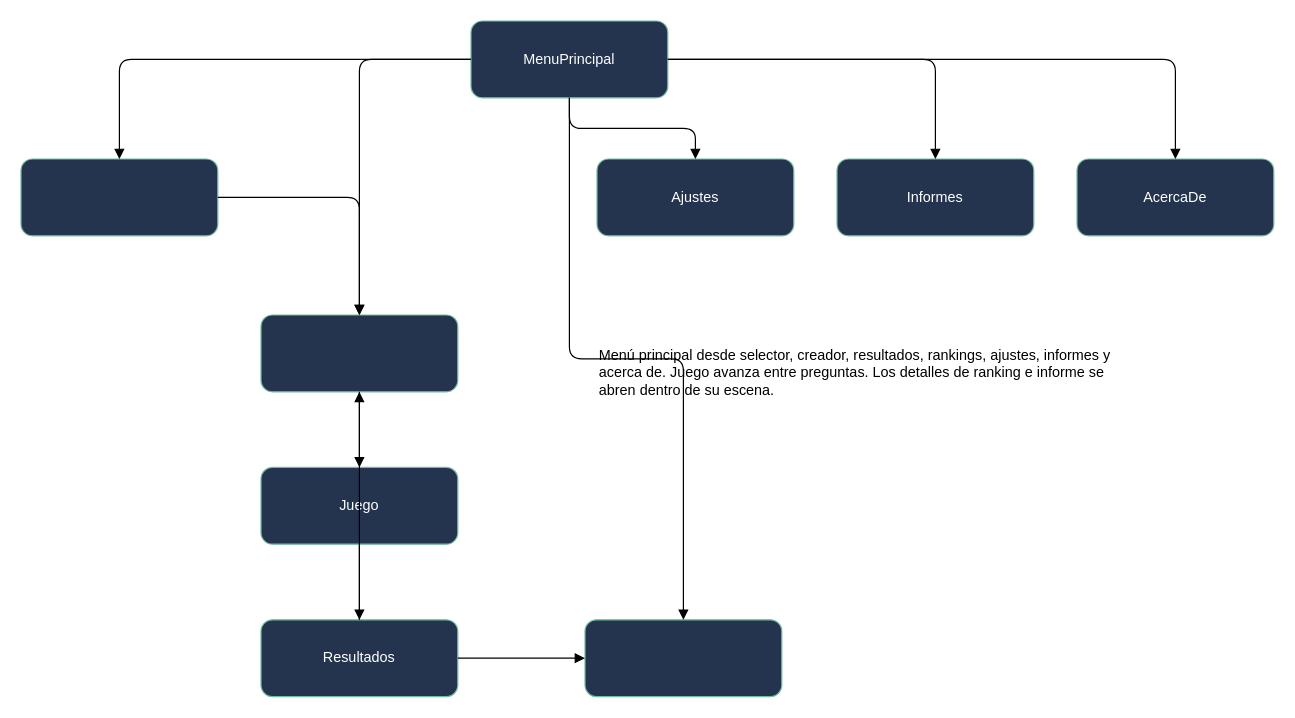
This 1295x718 diagram has some shape labels left out. Here are the shapes that lost their labels. From the top down, the centre of each, then its label:
At (x=119, y=197): "CrearCuestionario".
At (x=359, y=353): "SelectorCuestionarios".
At (x=683, y=658): "ListaCuestionarios".
